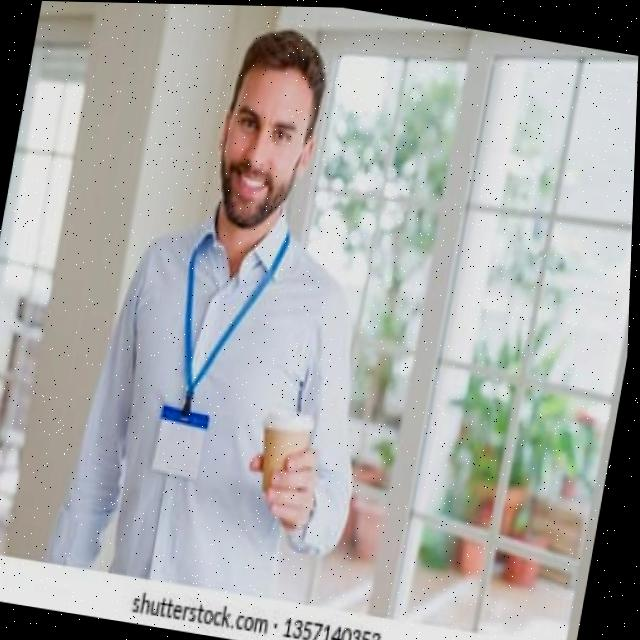id_card: (139, 214, 296, 493)
